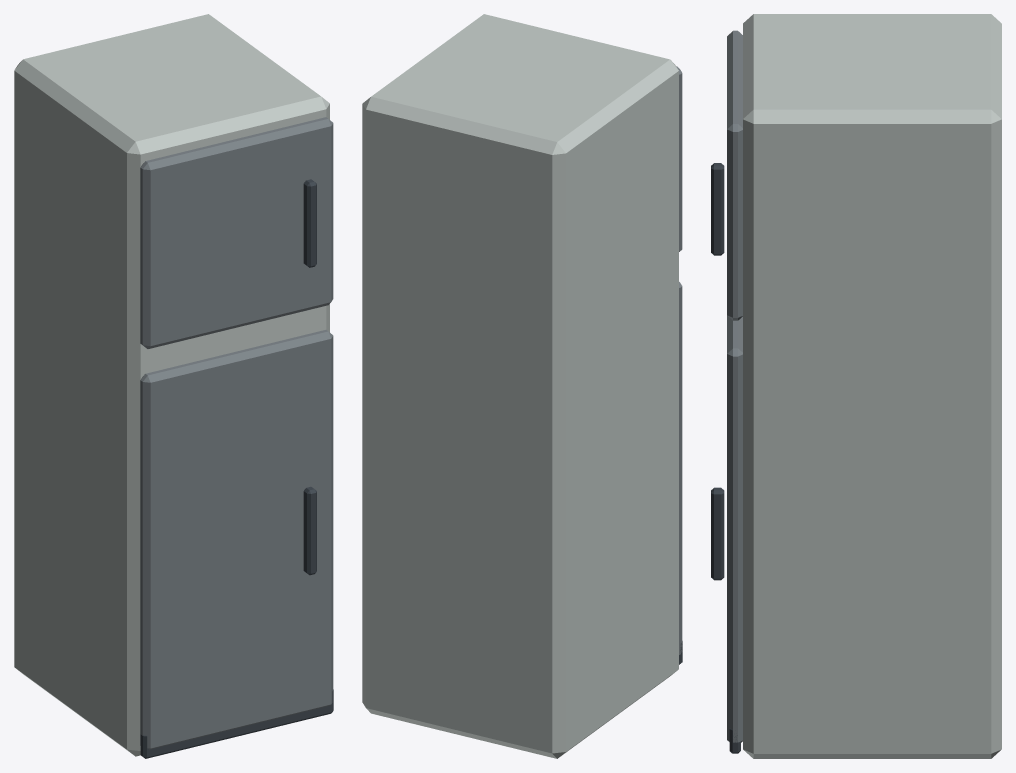
Rendered from FridgeCompact.fbx.
3 views of the same model, side by side, from view 1: azimuth 30°, elevation 25°; view 2: azimuth 150°, elevation 25°; view 3: azimuth 270°, elevation 25° (orthographic). The views are drawn at different scales.
Visible parts, largest first — view 1: FridgeCompact; view 2: FridgeCompact; view 3: FridgeCompact.
Part boxes in pixels (x1,y1,x2,y2): FridgeCompact: (14,14,333,758); FridgeCompact: (362,14,682,758); FridgeCompact: (711,14,1001,758).
Size of the model in its own units: 65 by 188 by 76.35.
Materials: 1 (1 with a texture image).
